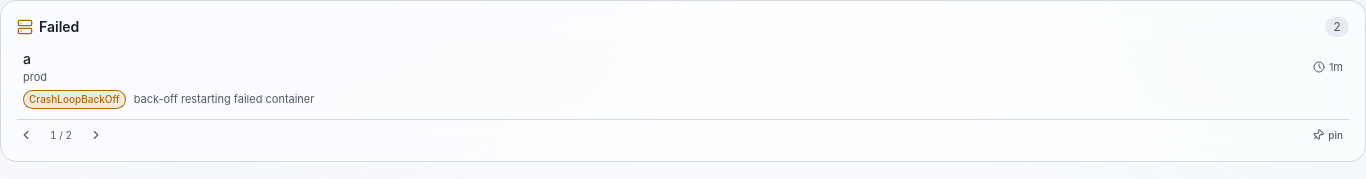
IssueCarousel › pinning stops auto-advance and toggles the pin label
The width and height of the screenshot is (1366, 179).
Click the button titled "Pin this item" at (1328, 135), box x1=1306 y1=126 x2=1349 y2=144
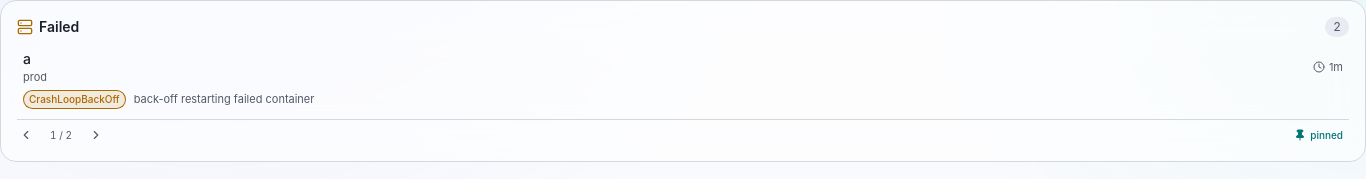
Now the button titled "Resume carousel" is shown, box x1=1288 y1=126 x2=1349 y2=144
